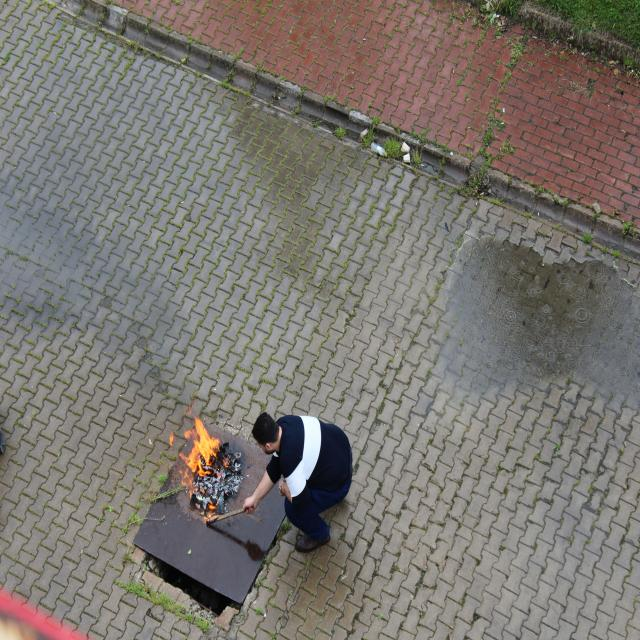fire: (165, 412, 221, 498)
